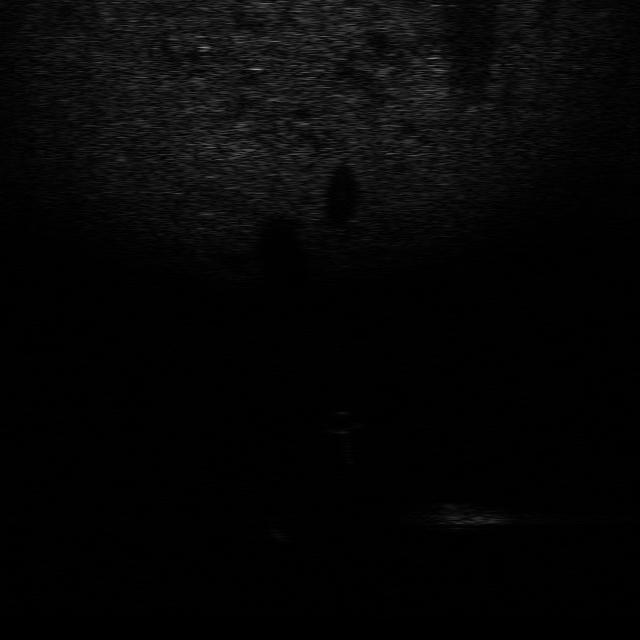ball: (312, 407, 368, 437)
metal bucket: (414, 498, 506, 534)
tyre: (255, 507, 311, 546)
